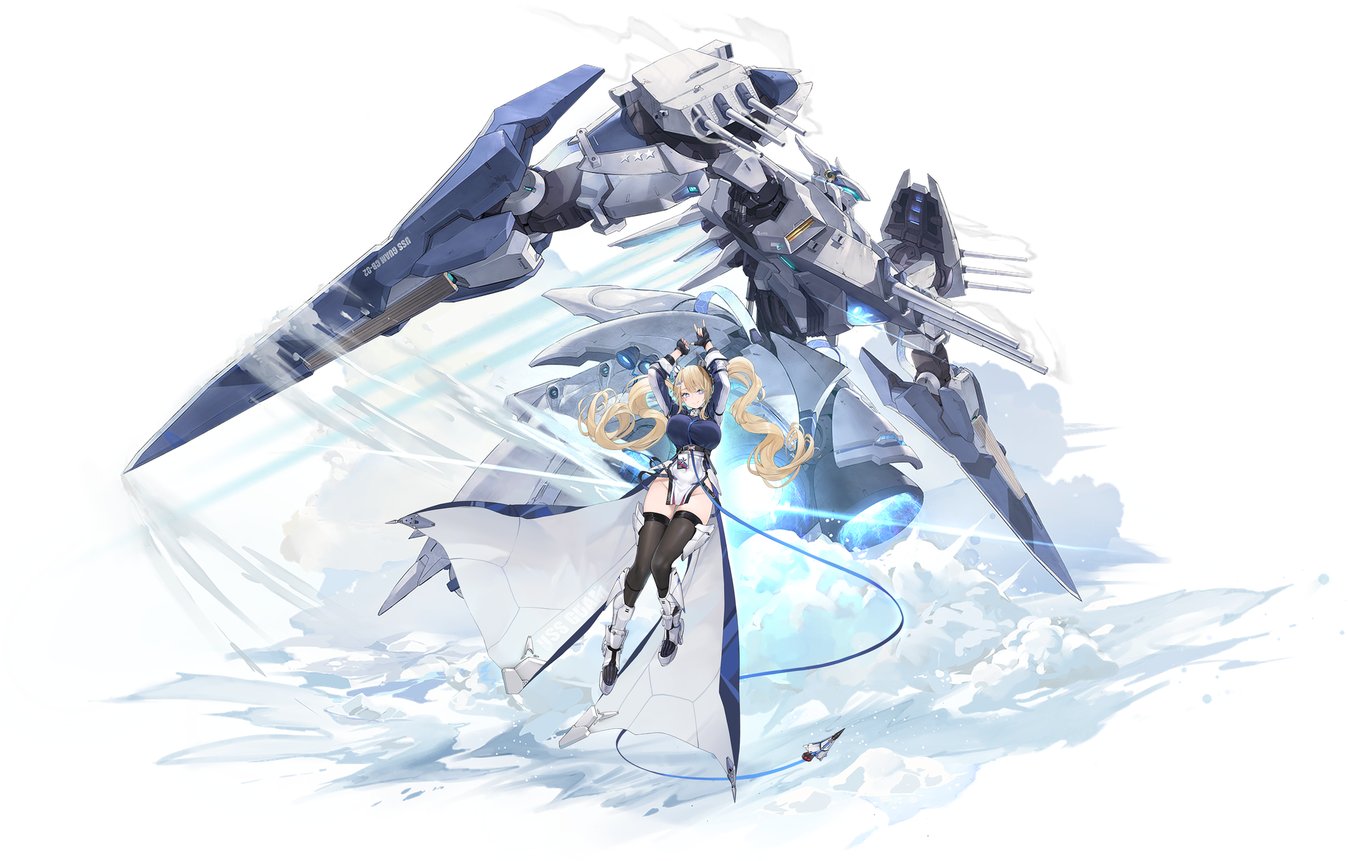person: (560, 326, 775, 784)
